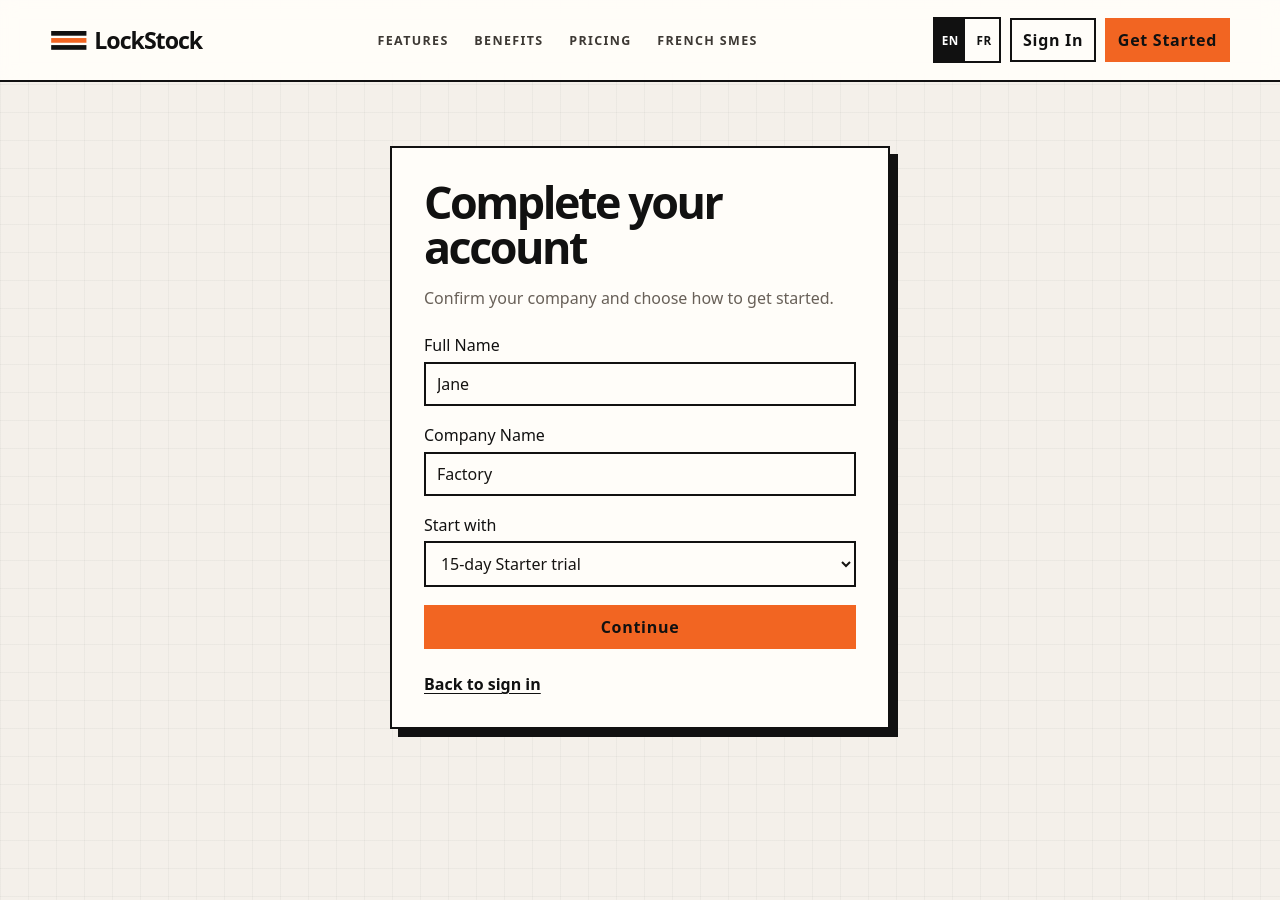
Scenario: Google sign-in UI › keeps entered details and allows retry after an onboarding failure
Step 1. Click the button "Continue" → [640, 627], box [424,605,856,649]
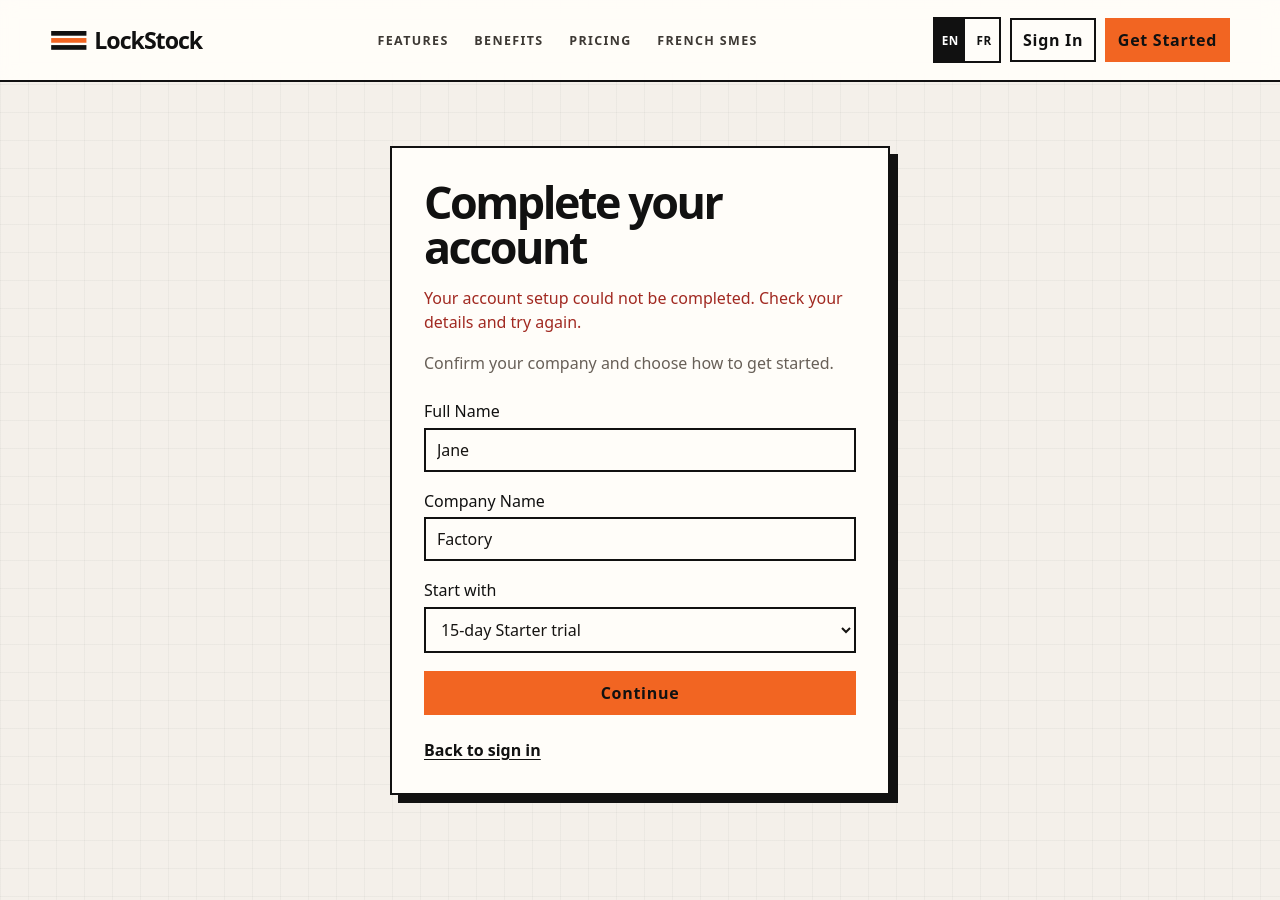
Expected: the field labelled "Company Name" holds "Factory", [424,517,856,561]
Expected: the message shows "setup could not be completed", [424,287,843,333]
